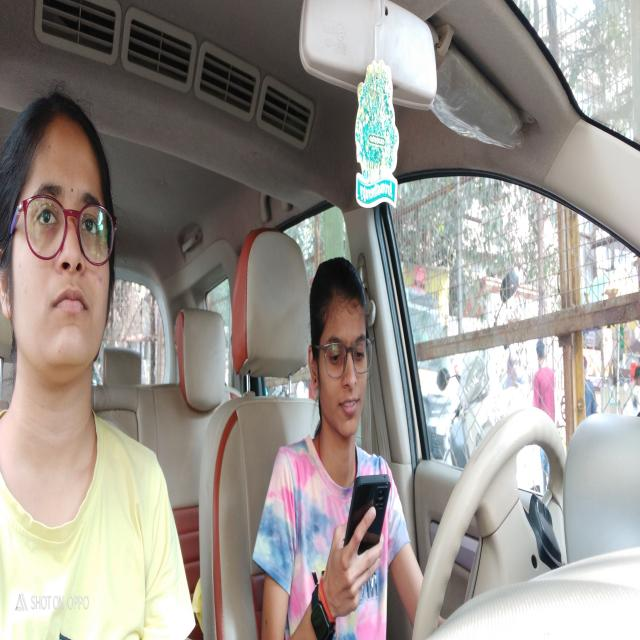mobile: (338, 471, 406, 589)
person: (2, 90, 126, 437), (302, 250, 388, 455)
